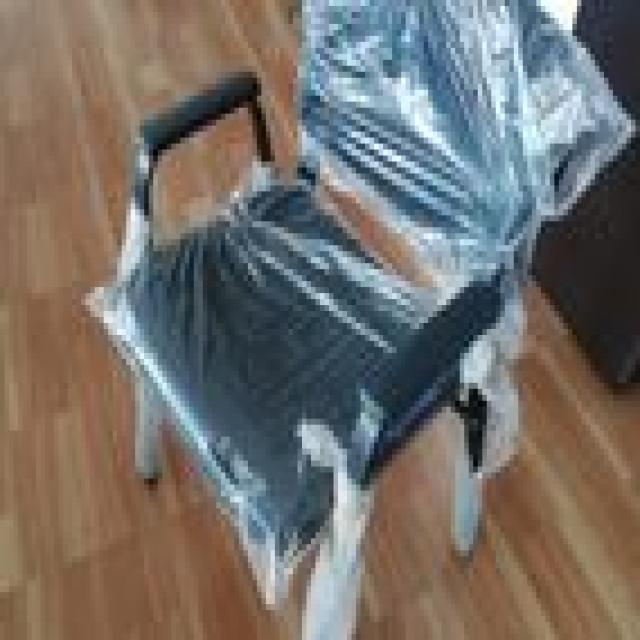others: (72, 6, 631, 640)
